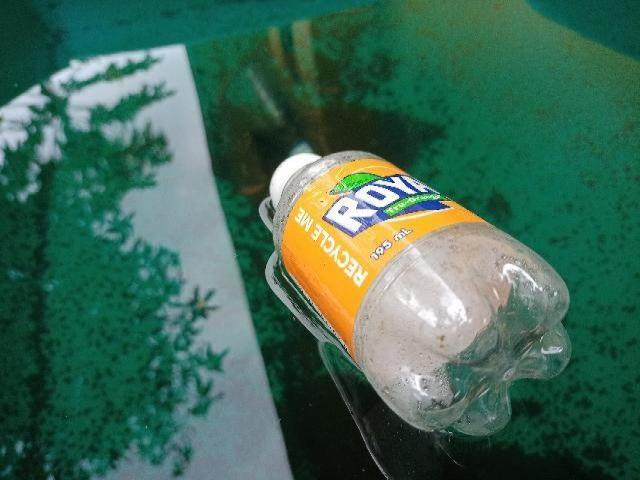Bottle: (255, 142, 582, 439)
